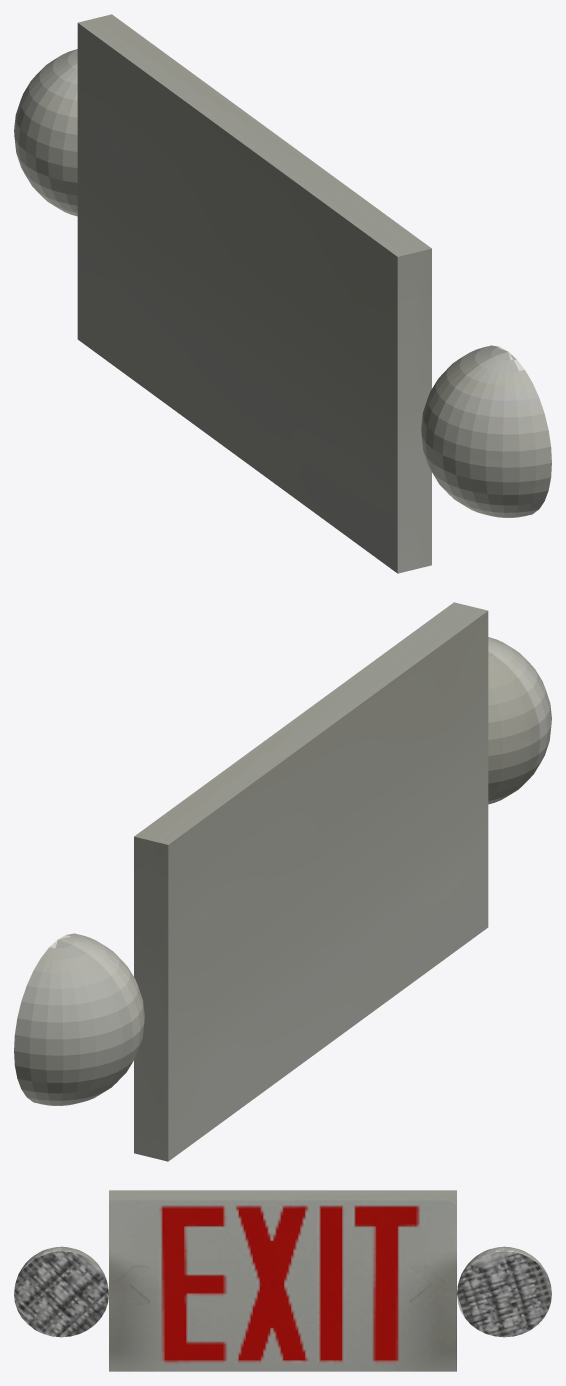
File: exitsign.glb
3 renders of one model, top to bottom at view 1: azimuth 30°, elevation 25°; view 2: azimuth 150°, elevation 25°; view 3: azimuth 270°, elevation 25°, orthographic. The views are drawn at different scales.
Visible parts, largest first — view 1: Cube, Light2, Light1; view 2: Cube, Light1, Light2; view 3: Cube, Light2, Light1.
Part boxes in pixels (<box>): Cube: <box>77,14,431,573</box>; Light2: <box>421,345,551,517</box>; Light1: <box>14,49,77,216</box>; Cube: <box>134,602,488,1161</box>; Light1: <box>14,933,144,1105</box>; Light2: <box>488,637,551,804</box>; Cube: <box>109,1190,456,1371</box>; Light2: <box>14,1246,108,1337</box>; Light1: <box>457,1246,551,1337</box>.
Bounding box in the file's own units: 0.5 × 2 × 5.66.
1 material, 1 textured.
